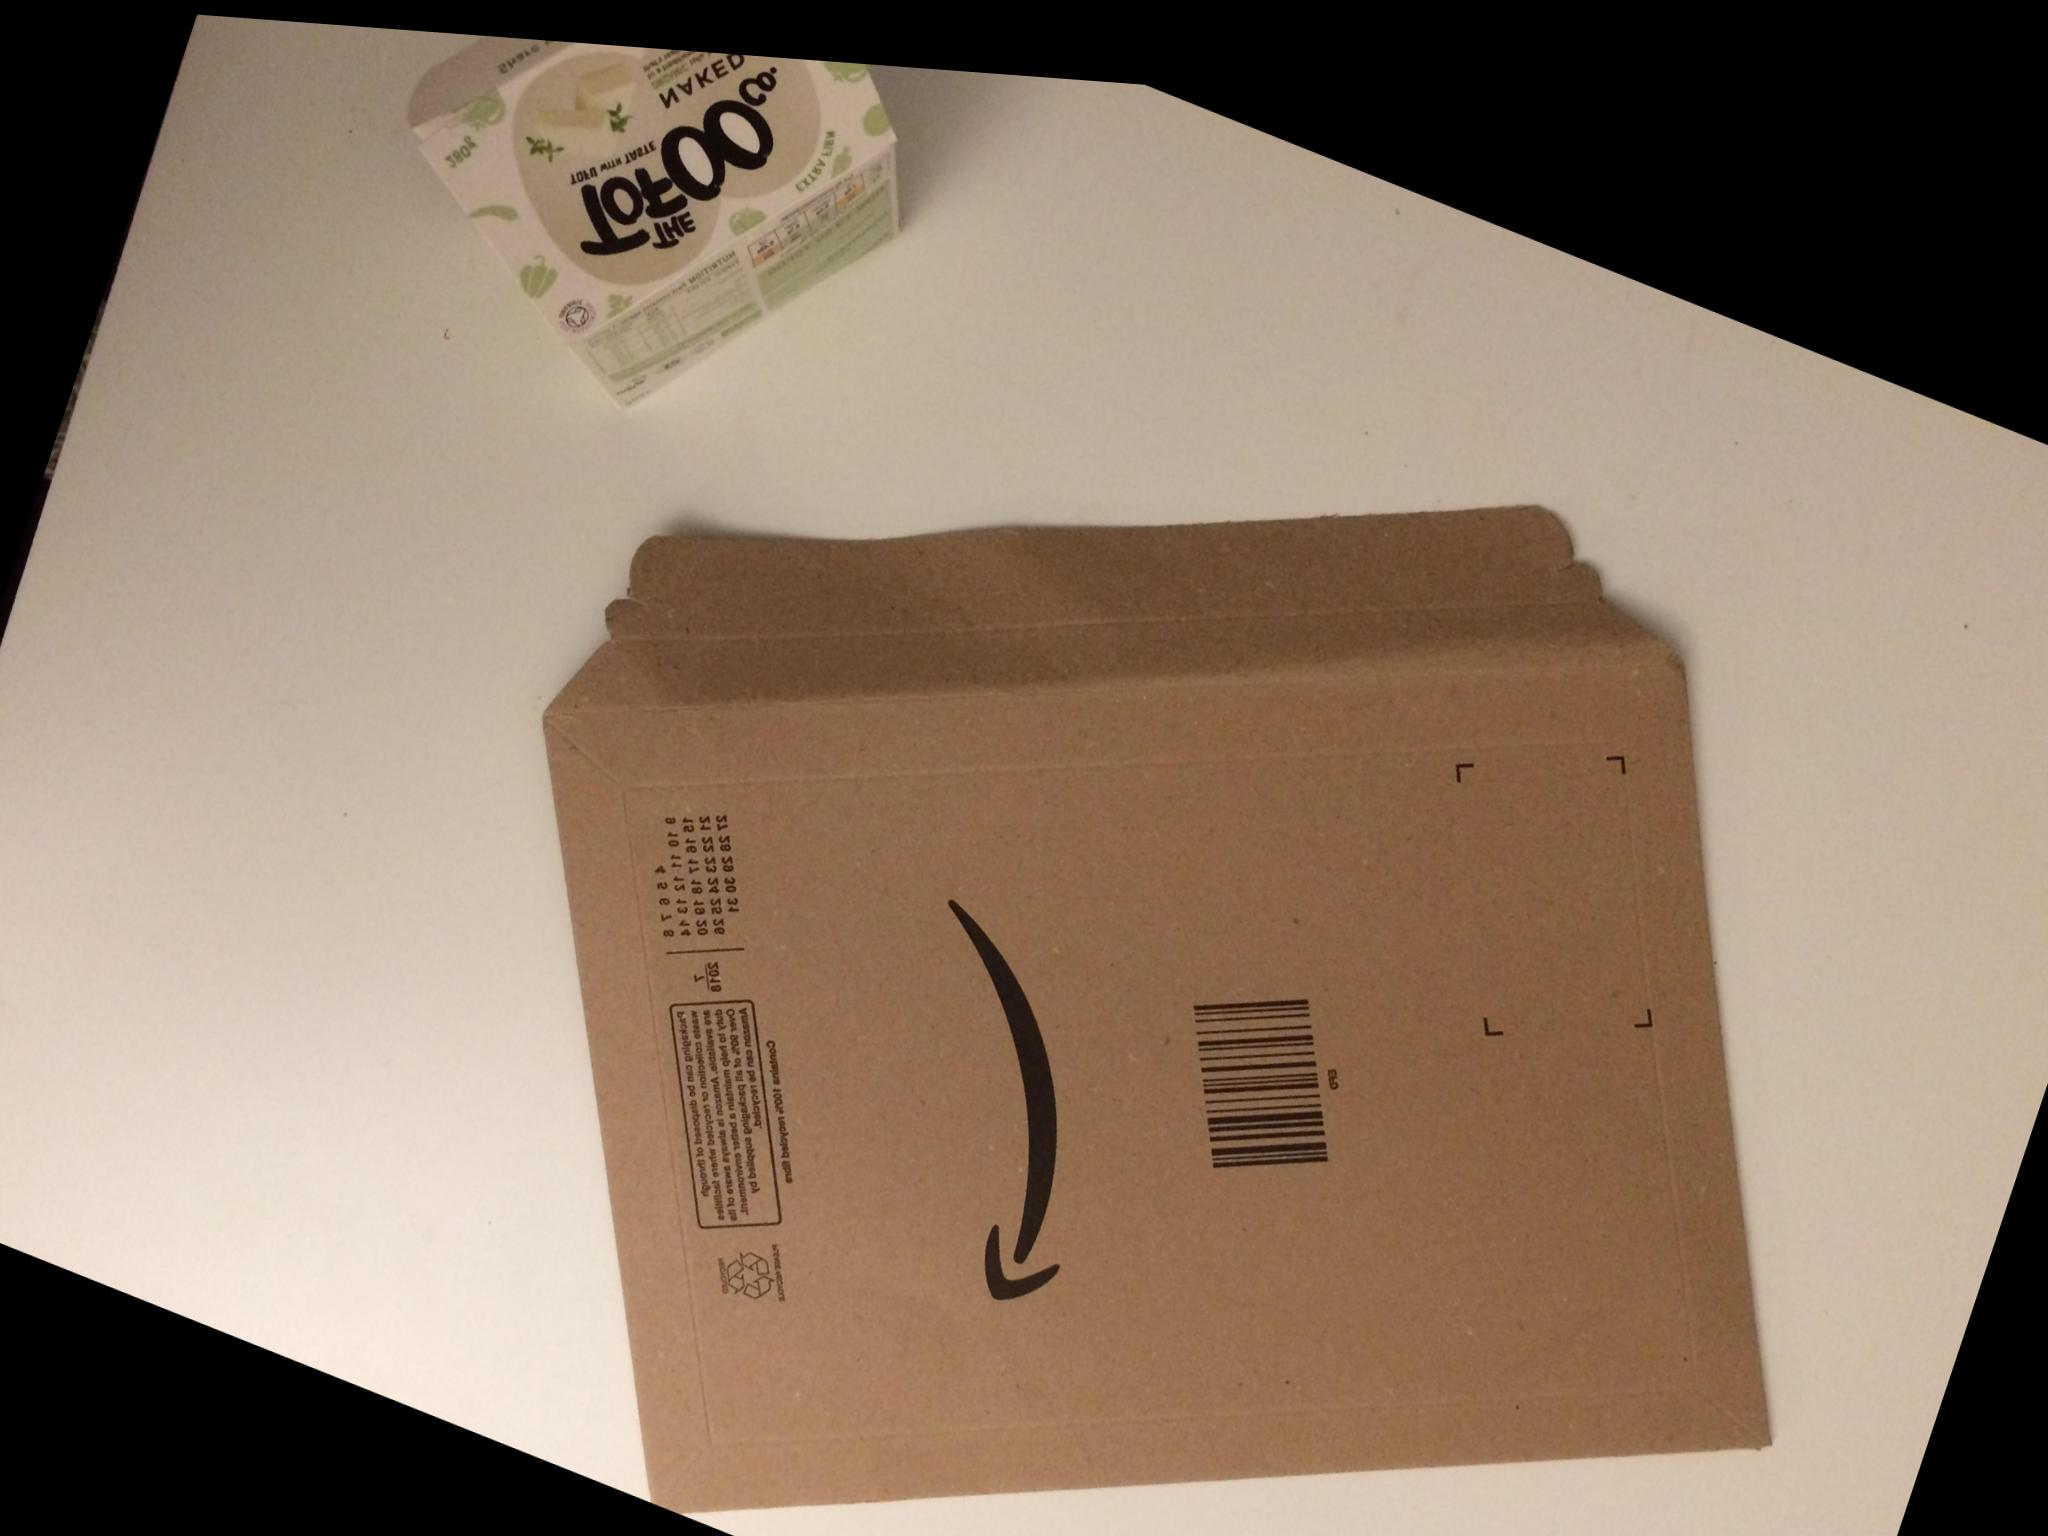cardboard: (477, 411, 2046, 1534), (410, 39, 897, 403)
